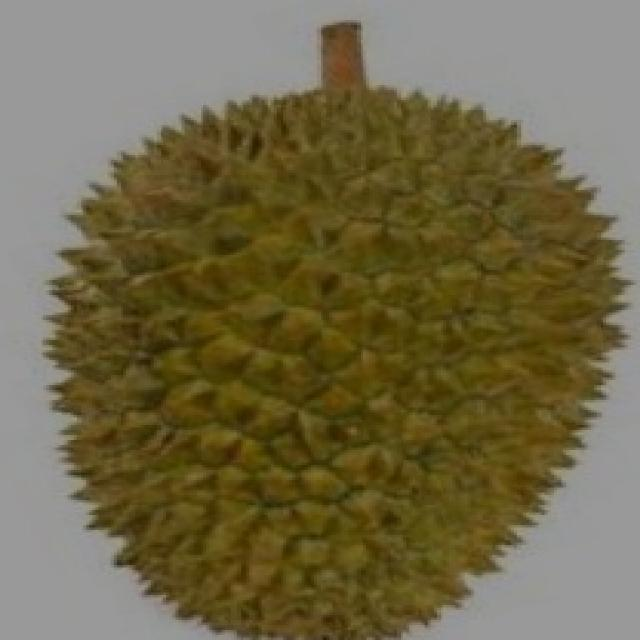fruit: (267, 230, 640, 637), (3, 275, 360, 640)
